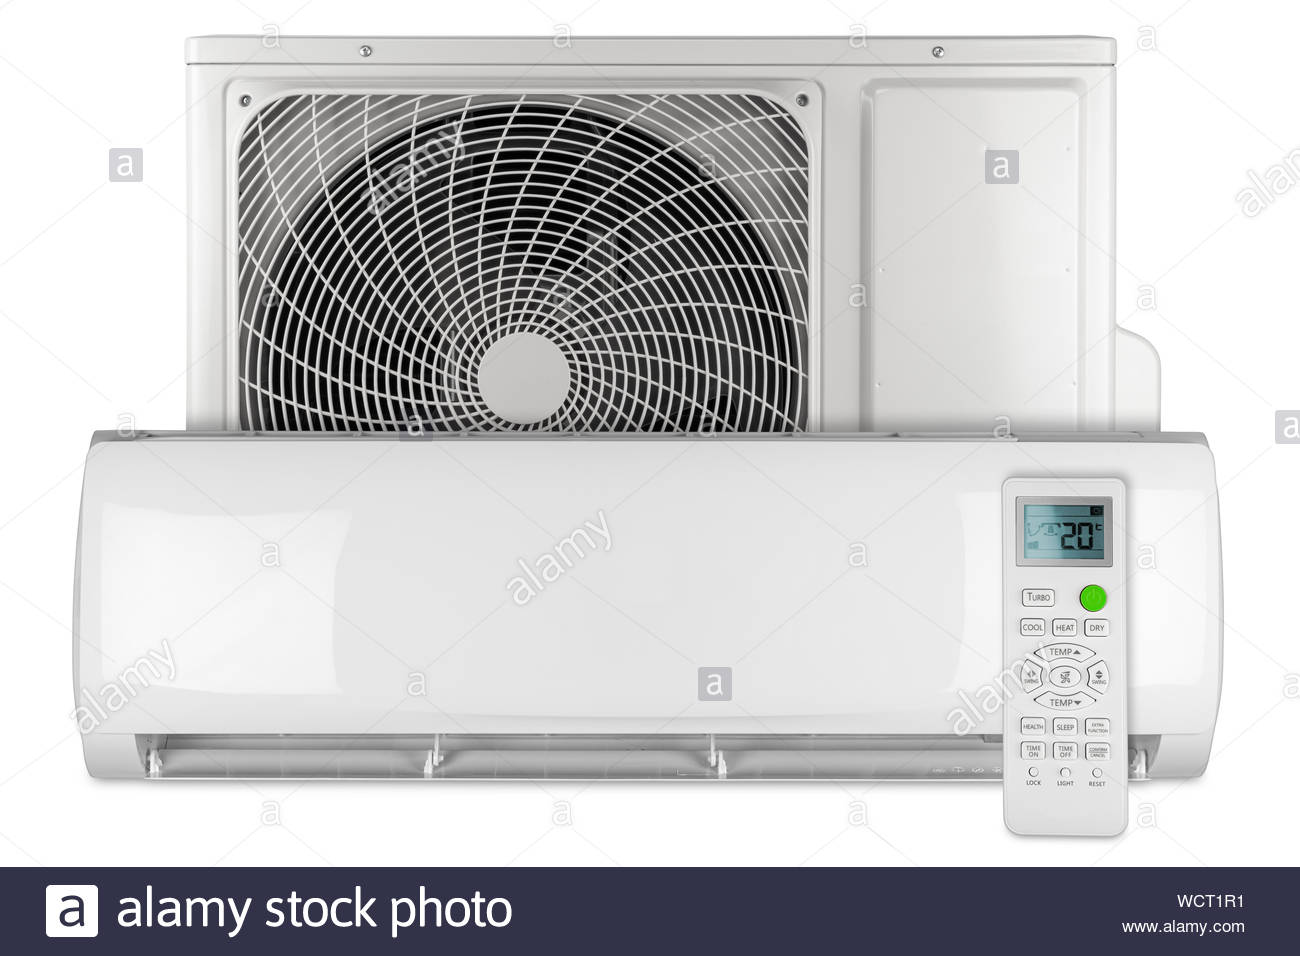ac: (53, 418, 1241, 784)
